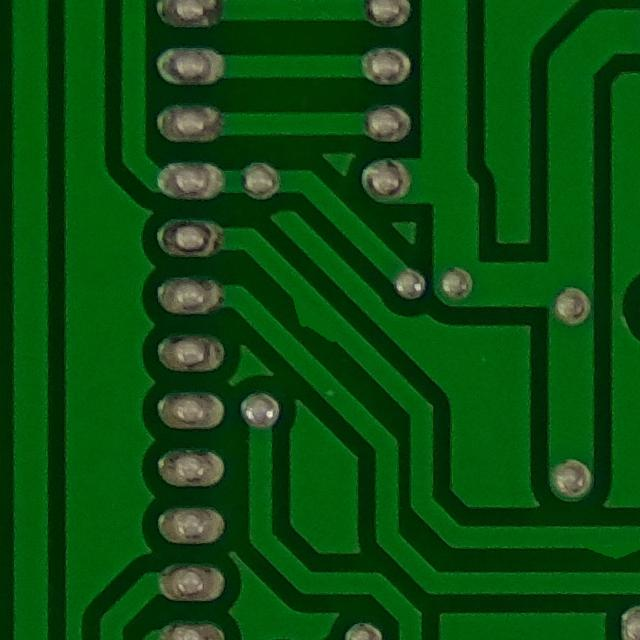spur: (275, 277, 366, 363)
